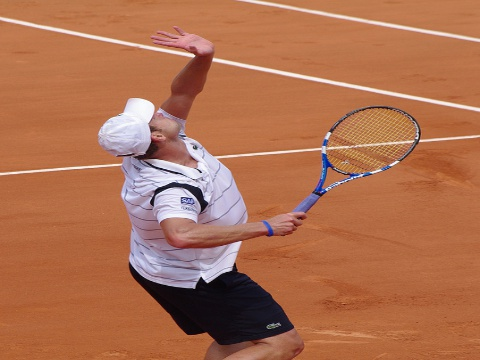hand: (149, 24, 215, 57), (267, 211, 307, 237)
